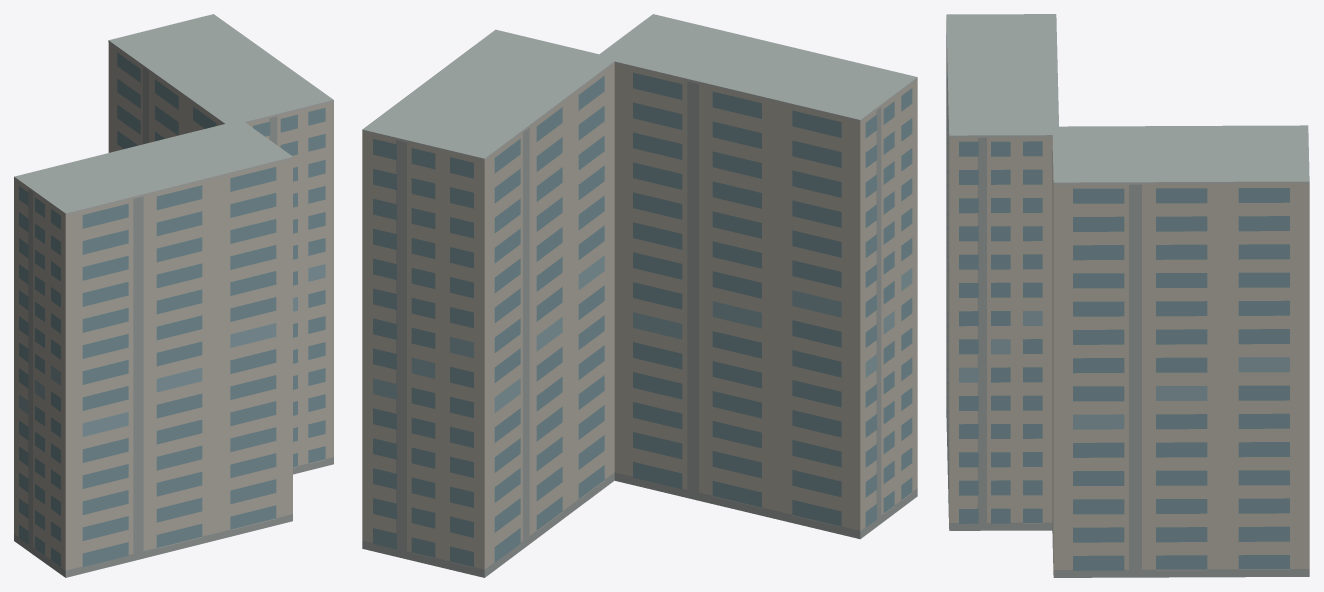
File: residential-0fe5ba1f-4e86-4504-bcc2-cd8c05ee5fff.glb
3 renders of one model, left to right at view 1: azimuth 30°, elevation 25°; view 2: azimuth 150°, elevation 25°; view 3: azimuth 270°, elevation 25°, orthographic. The views are drawn at different scales.
Parts seen in each view (by area): view 1: residential-0fe5ba1f-4e86-4504-bcc2-cd8c05ee5fff.tmp; view 2: residential-0fe5ba1f-4e86-4504-bcc2-cd8c05ee5fff.tmp; view 3: residential-0fe5ba1f-4e86-4504-bcc2-cd8c05ee5fff.tmp.
Part boxes in pixels (x1=…): residential-0fe5ba1f-4e86-4504-bcc2-cd8c05ee5fff.tmp: x1=14, y1=14, x2=333, y2=577; residential-0fe5ba1f-4e86-4504-bcc2-cd8c05ee5fff.tmp: x1=362, y1=14, x2=917, y2=577; residential-0fe5ba1f-4e86-4504-bcc2-cd8c05ee5fff.tmp: x1=946, y1=14, x2=1309, y2=577.
Bounding box in the file's own units: 37.5 × 41 × 34.15.
